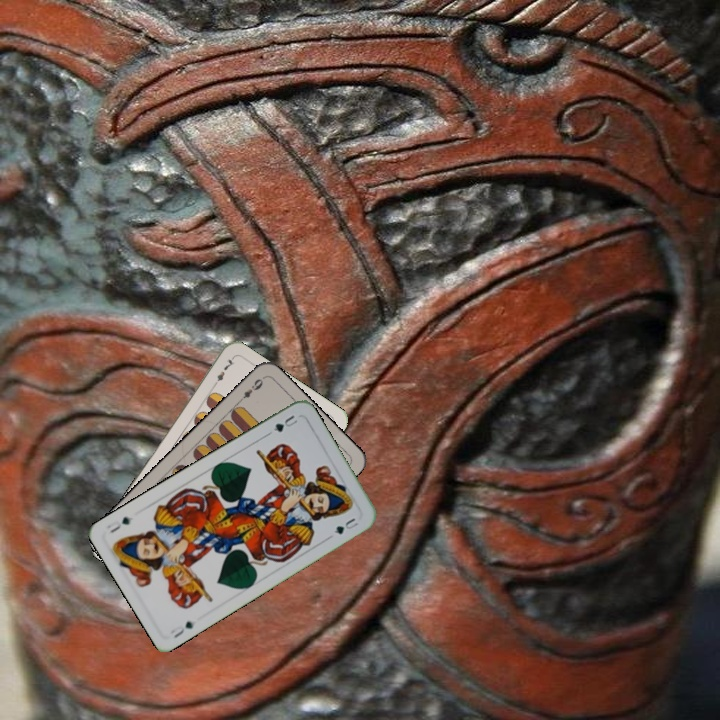E7: (209, 354, 237, 390)
E9: (234, 373, 266, 405)
GU: (269, 411, 300, 435), (166, 617, 196, 641)
